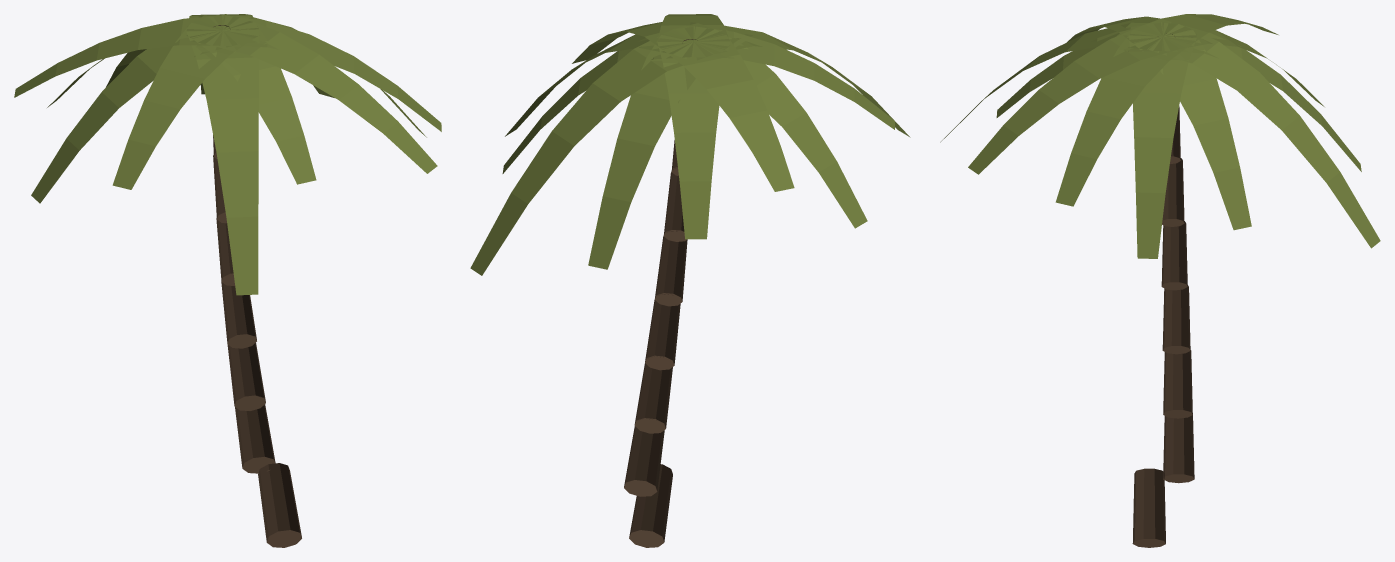
The model's file is tree-palm-1.glb.
3 views of the same model, side by side, from view 1: azimuth 30°, elevation 25°; view 2: azimuth 150°, elevation 25°; view 3: azimuth 270°, elevation 25° (orthographic). The views are drawn at different scales.
Parts seen in each view (by area): view 1: tree-palm-1; view 2: tree-palm-1; view 3: tree-palm-1.
Part boxes in pixels (x1=…): tree-palm-1: x1=14, y1=14, x2=441, y2=547; tree-palm-1: x1=470, y1=14, x2=910, y2=547; tree-palm-1: x1=940, y1=14, x2=1380, y2=547.
Size of the model in its own units: 4.93 by 6.6 by 5.45.
